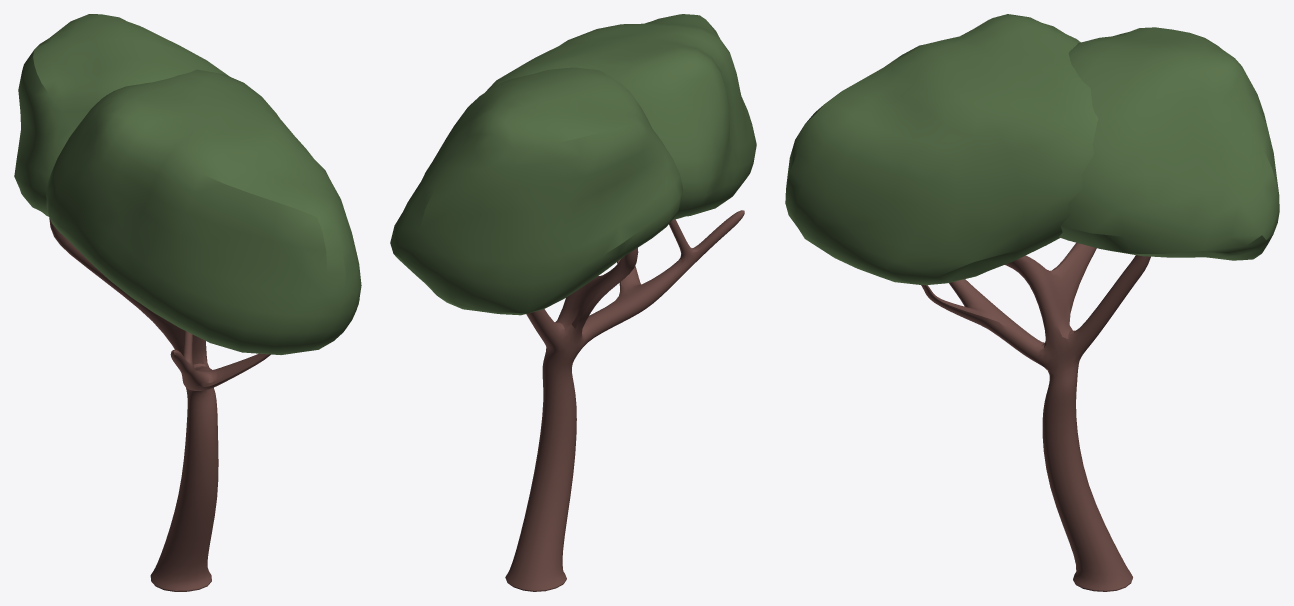
The model's file is Tree_5.fbx.
The picture shows the model from 3 angles, left to right: view 1: azimuth 30°, elevation 25°; view 2: azimuth 150°, elevation 25°; view 3: azimuth 270°, elevation 25°; orthographic projection. The views are drawn at different scales.
Parts seen in each view (by area): view 1: CommonTree_5; view 2: CommonTree_5; view 3: CommonTree_5.
Part boxes in pixels (x1=…): CommonTree_5: x1=14, y1=14, x2=361, y2=591; CommonTree_5: x1=390, y1=14, x2=756, y2=591; CommonTree_5: x1=785, y1=14, x2=1279, y2=591.
Size of the model in its own units: 119 by 249 by 216.
